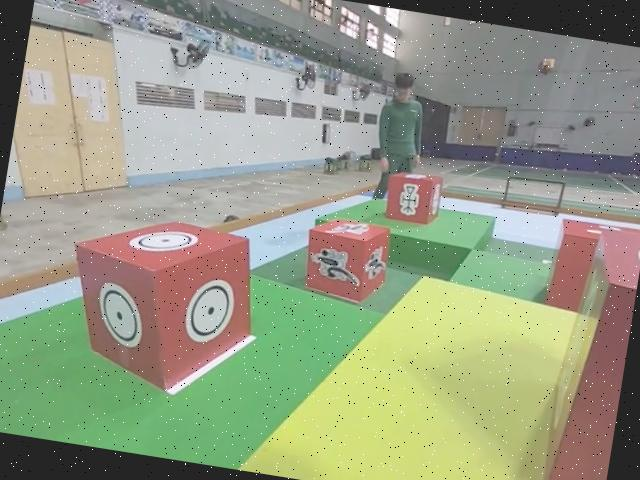R1: (299, 214, 393, 306)
R2 Real: (54, 205, 271, 407), (384, 171, 444, 229)
